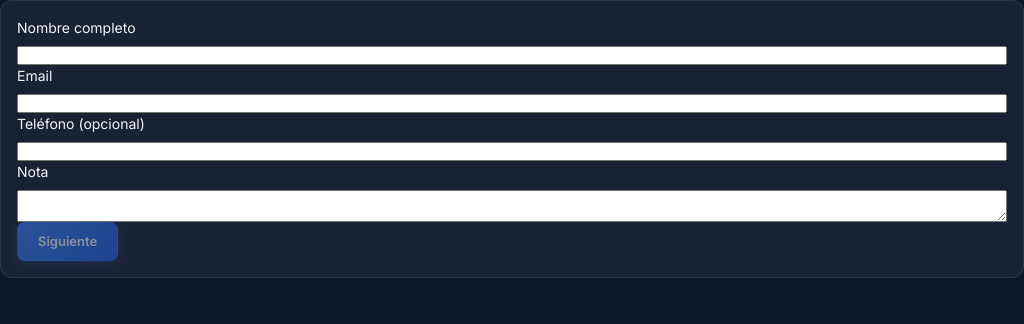
Scenario: US_015, US_016, US_019: Formulario de Datos del Paciente › 4. Muestra error si el email ingresado no tiene formato válido
Note: Act — ingresamos un email sin el símbolo @
Type "correo-sin-arroba.com" into the field labelled "Email" at coordinates (512, 104), box [17, 94, 1007, 113]
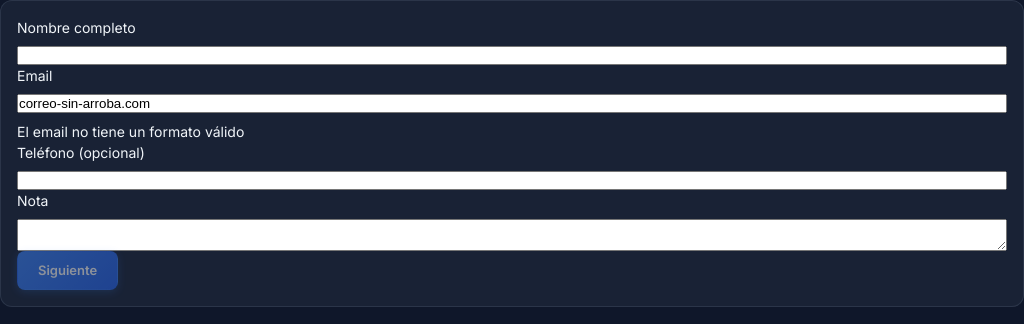
expect the text "El email no tiene un formato válido" is shown: met, box [17, 123, 244, 140]
